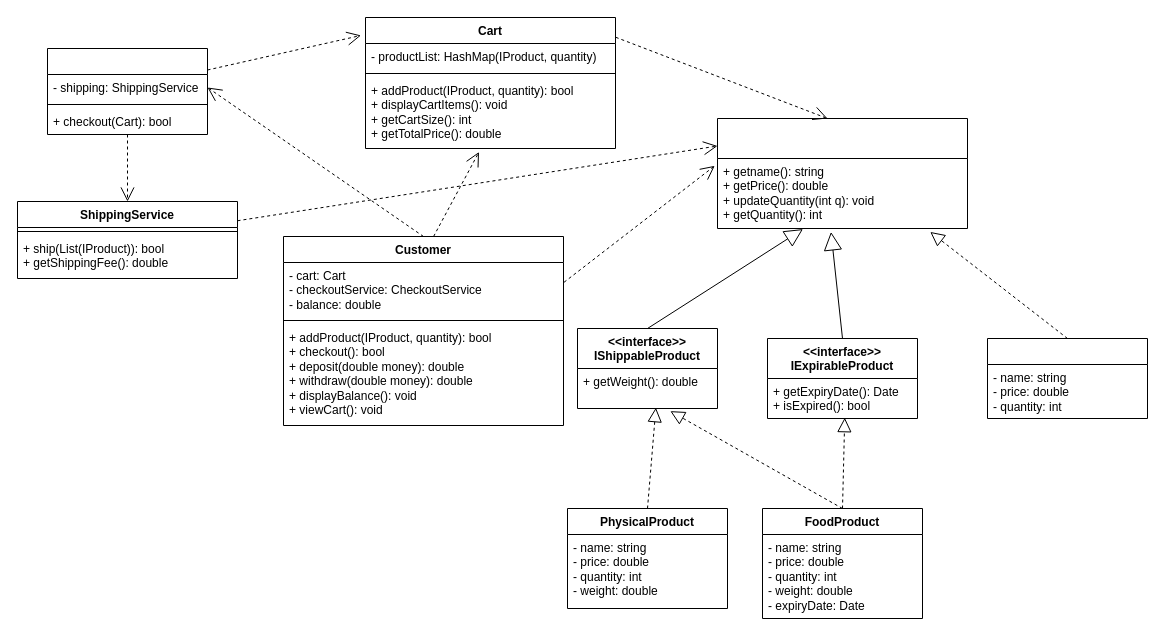
Image size: 1165x639. Some labels were removed from this diagram. Here are the shapes that lost their labels. From the top down, the box of each, then its label:
(46, 48, 208, 134): CheckoutService
(716, 118, 968, 228): <<interface>> IProduct
(986, 338, 1148, 418): DigitalProduct
